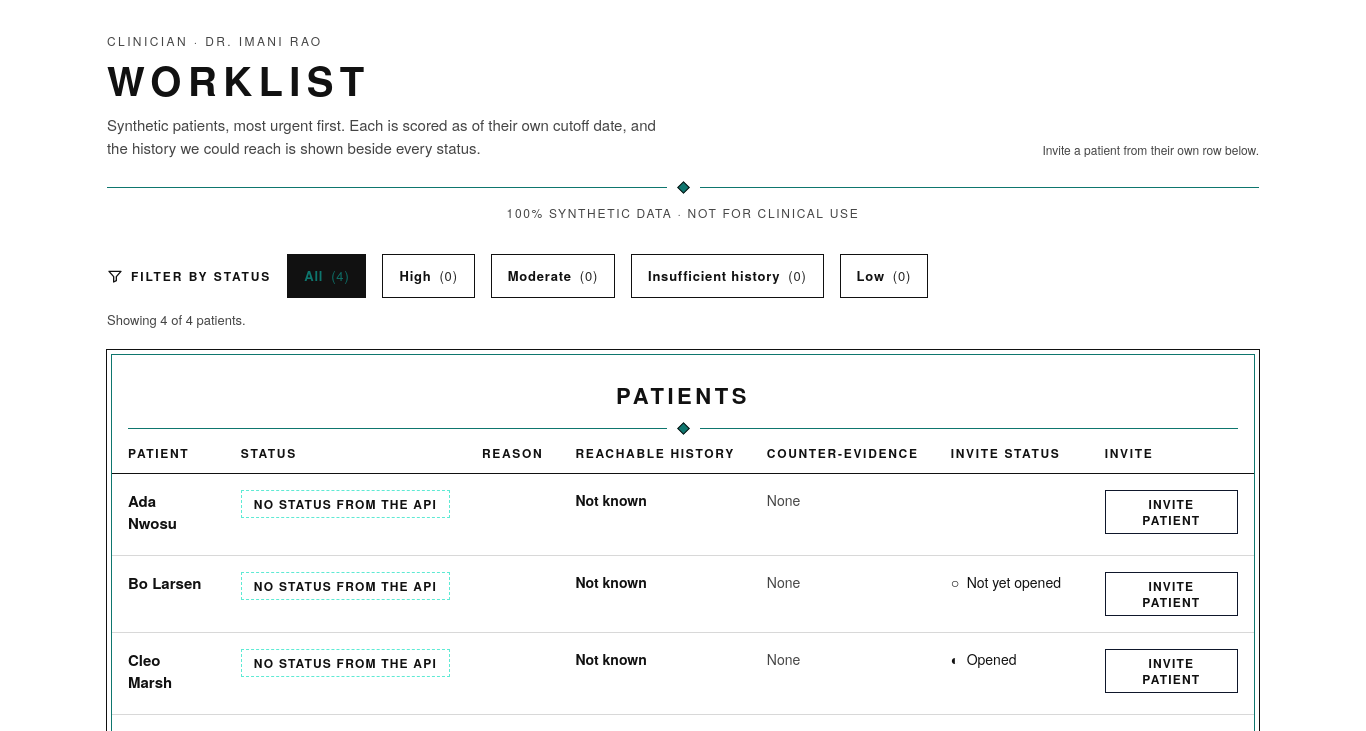
Test: Worklist invite status › [AC-084] a 403 detail is shown inline without crashing the screen
Expected: the button "Ada Nwosu" is shown, [128,490,209,534]
Click the button with aria-label "Invite patient Ada Nwosu". click: (1171, 512)
box: [1105,490,1238,534]
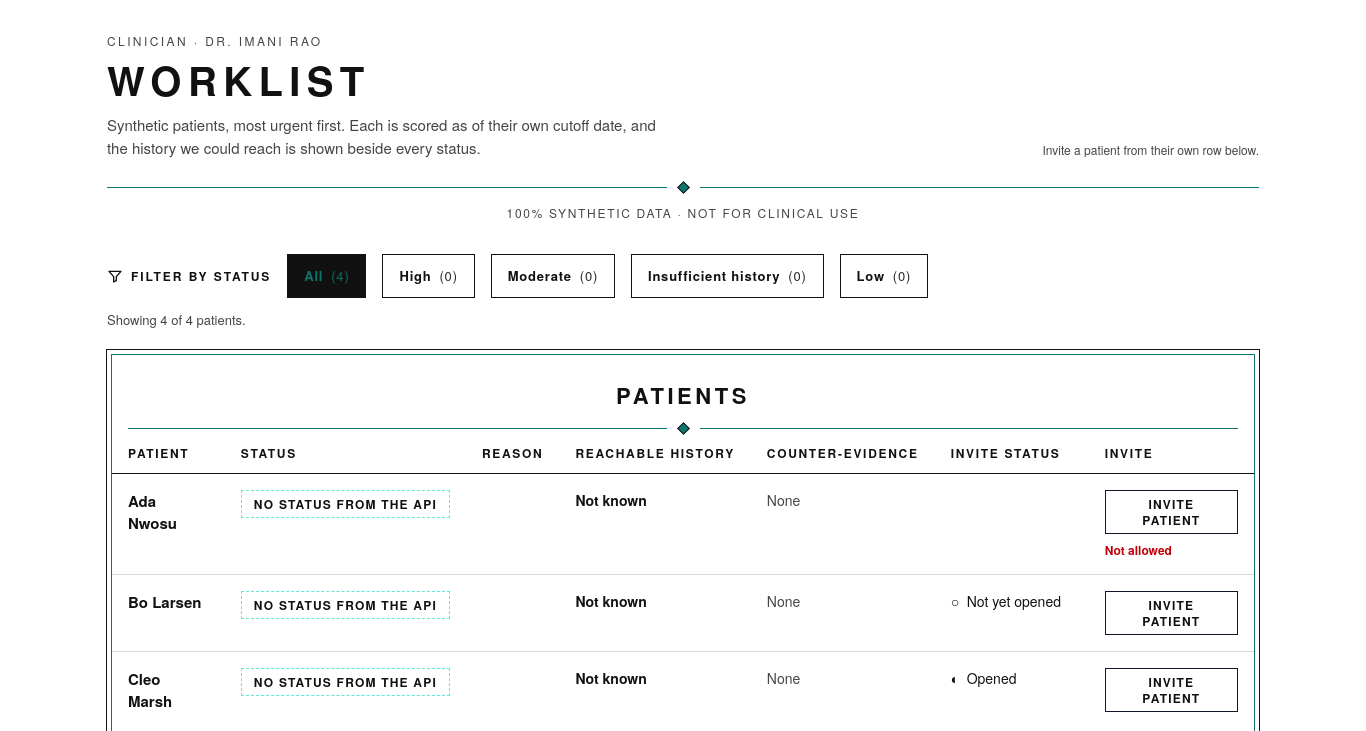
Expected: the button "Bo Larsen" is shown, [128,590,201,614]
Result: the text "Not allowed" is shown at [1105,540,1172,558]
